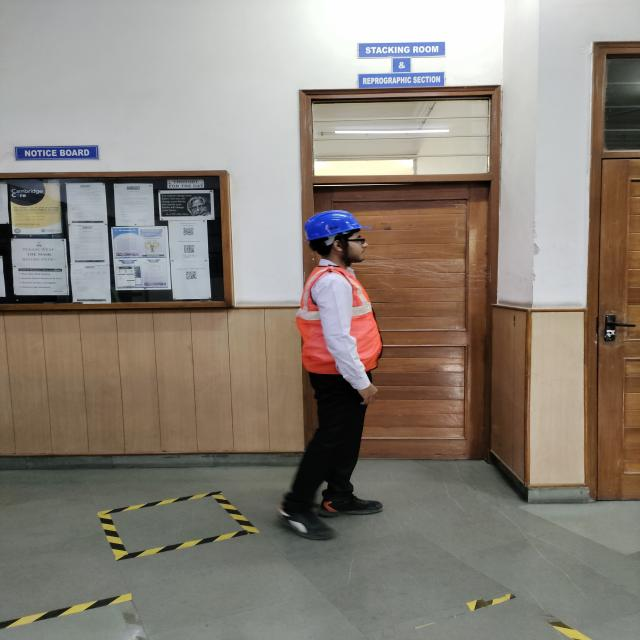safe: (295, 210, 383, 540)
